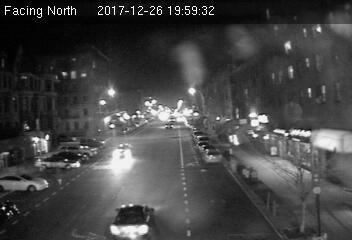car: (110, 199, 156, 239), (202, 149, 222, 164), (113, 145, 134, 159)
